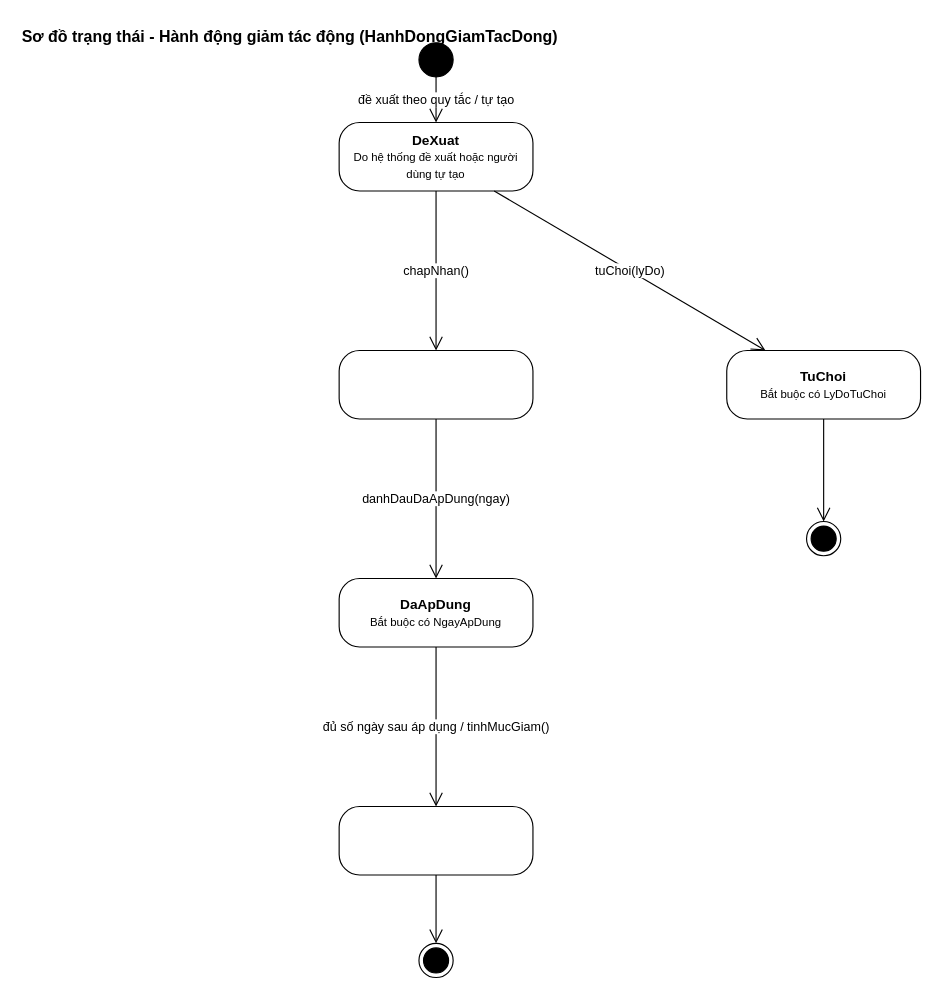
The diagram is 941 pixels wide and 998 high, and some of its shapes have lost their labels. The shapes that lost their labels are listed below. From the top down, each one's centre as x and y in pixels, then its label:
At pixel 435 384: "DaChapNhan Đã được duyệt".
At pixel 435 840: "DaDanhGia Có bản ghi DanhGiaHieuQua".
